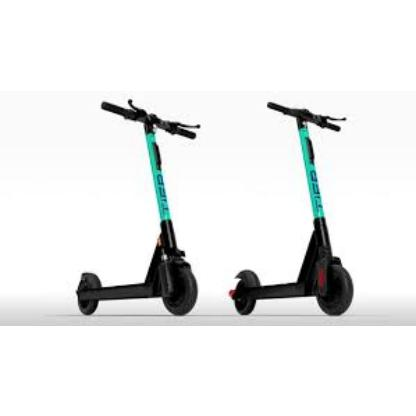bike: (73, 99, 355, 318)
